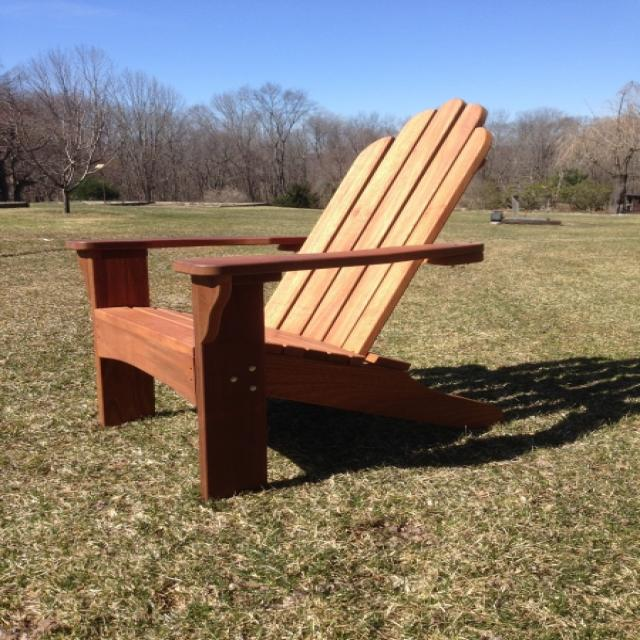Woods: (73, 100, 503, 503)
